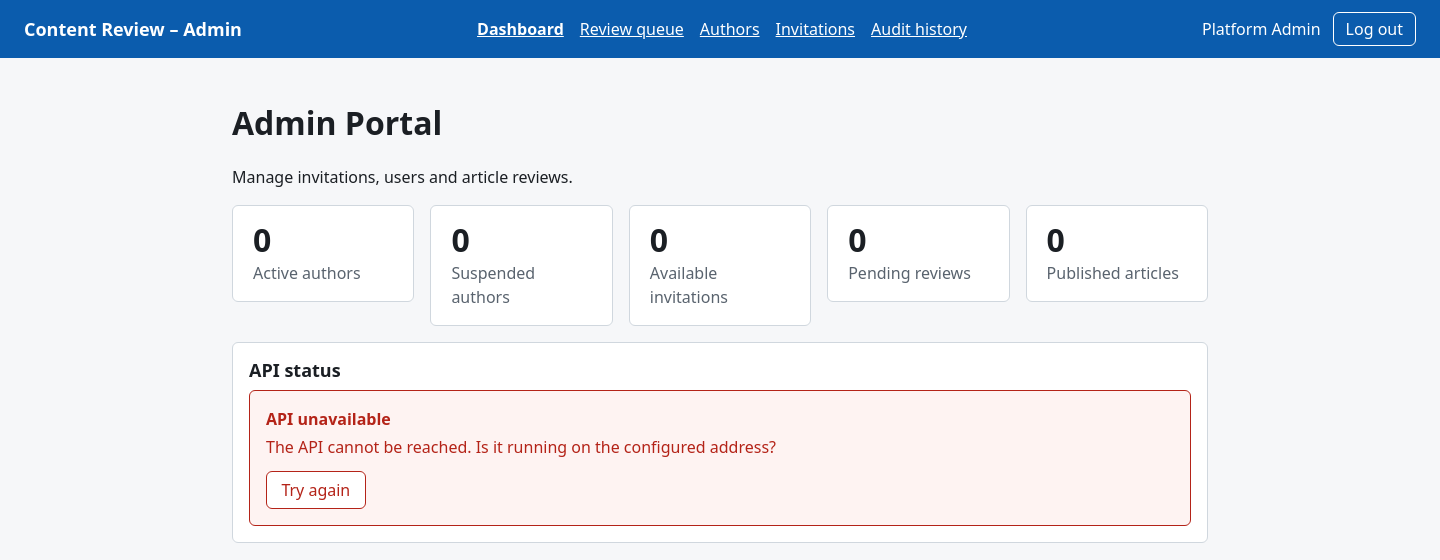
it: API health indicator on the home page › explains when the API cannot be reached and lets the user retry
Expected: the message shows "The API cannot be reached", x1=266 y1=436 x2=776 y2=458
Click the button "Try again": (316, 490) x1=266 y1=471 x2=366 y2=509
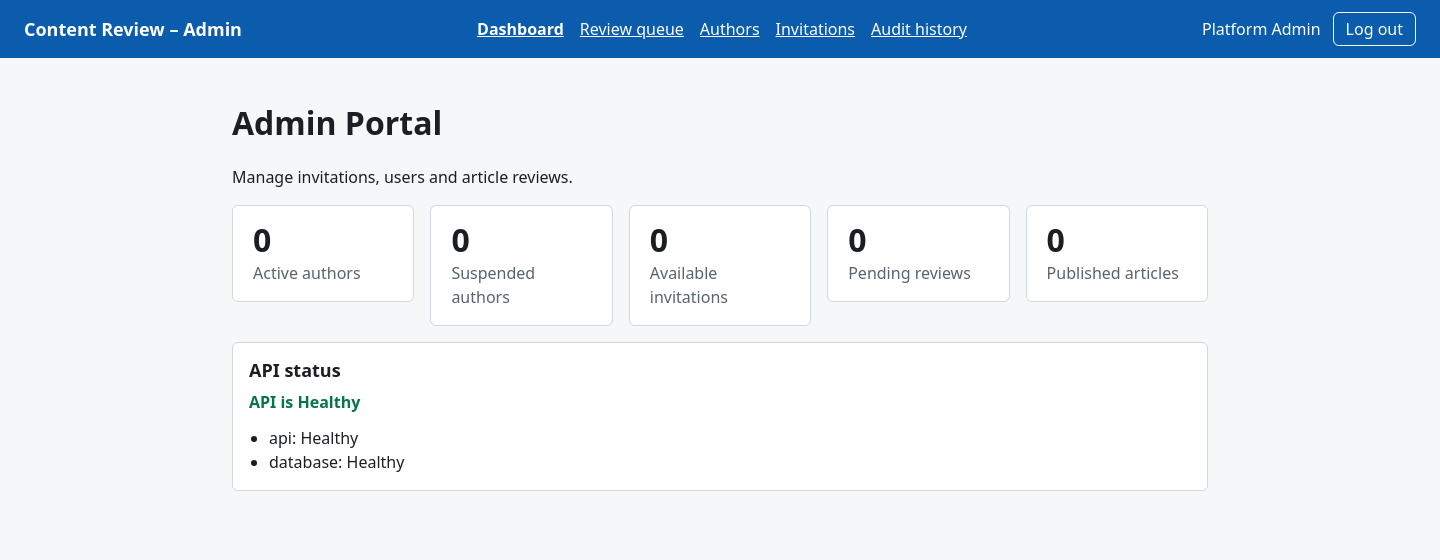
Now the text "API is Healthy" is shown, box x1=249 y1=391 x2=360 y2=413
